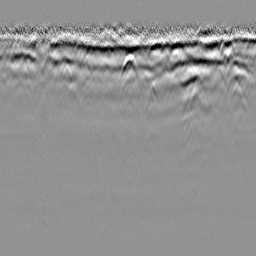cavity: (117, 53, 141, 86)
